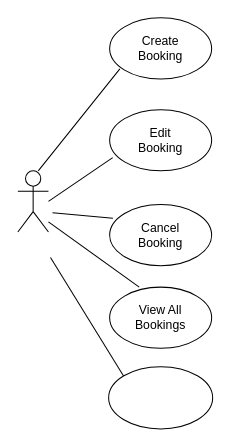
This 231x447 diagram has some shape labels left out. Here are the shapes that lost their labels. From the top down, the centre of each, then its label:
At (x=32, y=201): "User".
At (x=160, y=397): "View Bookings by Studio".
